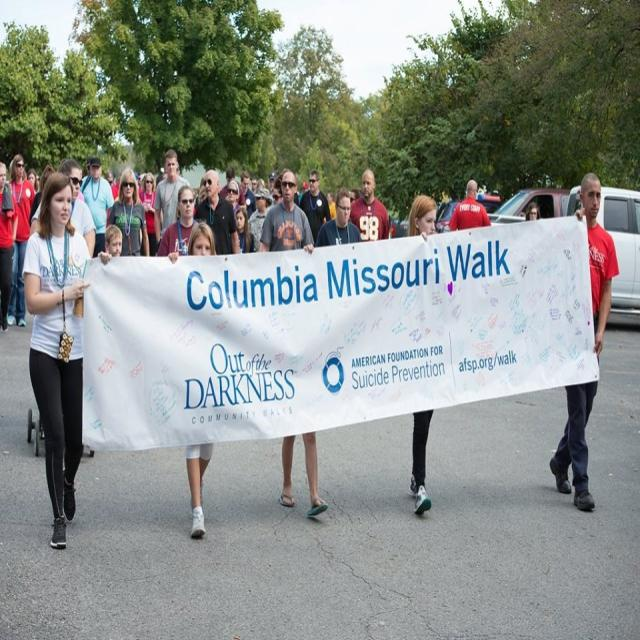body: (19, 170, 95, 550), (548, 170, 622, 514), (167, 220, 217, 540), (406, 194, 438, 518), (29, 157, 97, 260), (258, 168, 316, 255), (6, 153, 35, 327), (278, 428, 332, 520), (192, 167, 240, 256), (153, 148, 192, 255), (108, 166, 151, 258), (79, 156, 116, 258), (0, 158, 19, 333), (156, 182, 200, 256), (347, 168, 391, 242), (313, 184, 363, 248), (298, 168, 333, 248), (217, 166, 283, 208), (447, 178, 492, 232), (246, 186, 275, 254), (26, 165, 56, 228), (138, 172, 157, 256), (219, 164, 248, 208), (98, 222, 124, 266), (233, 204, 256, 253), (240, 170, 258, 222), (134, 170, 168, 196), (226, 178, 241, 220), (78, 158, 92, 202), (104, 168, 120, 200), (323, 190, 338, 222), (293, 180, 309, 208), (192, 177, 205, 210), (524, 200, 540, 222), (348, 188, 363, 205), (388, 218, 396, 240), (476, 188, 483, 202)
